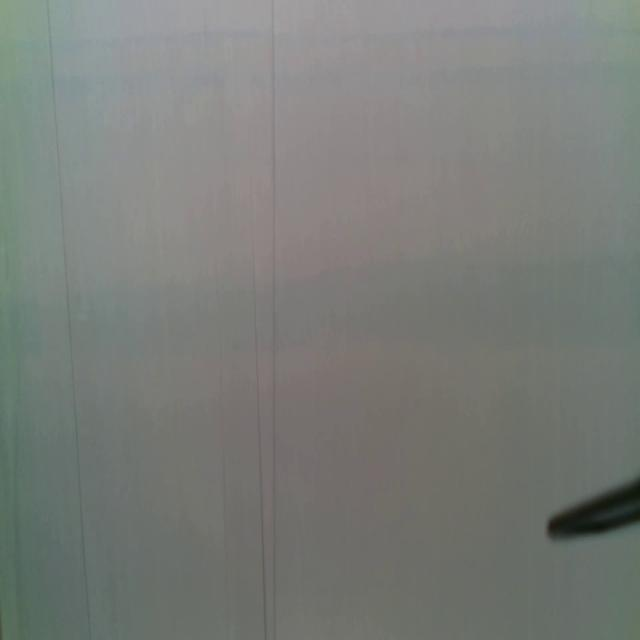color bleeding: (0, 249, 640, 360), (0, 12, 640, 107)
crease: (47, 0, 93, 640), (253, 2, 278, 640)
